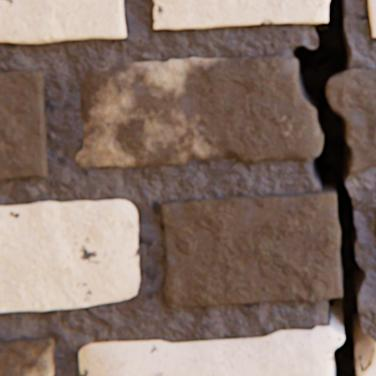brick: (162, 191, 342, 307), (0, 199, 140, 311), (0, 0, 127, 43), (0, 71, 48, 179), (154, 0, 328, 29), (0, 336, 55, 375), (368, 0, 375, 37)
broken_brick: (76, 56, 323, 166), (80, 325, 343, 375), (326, 69, 375, 172), (360, 340, 375, 375)
crack: (292, 0, 374, 375)
